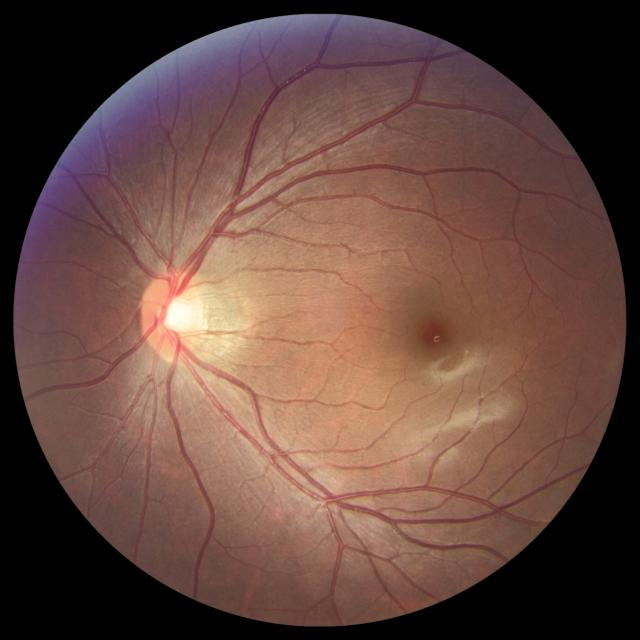OC: (163, 296, 197, 336)
OD: (141, 272, 208, 358)
